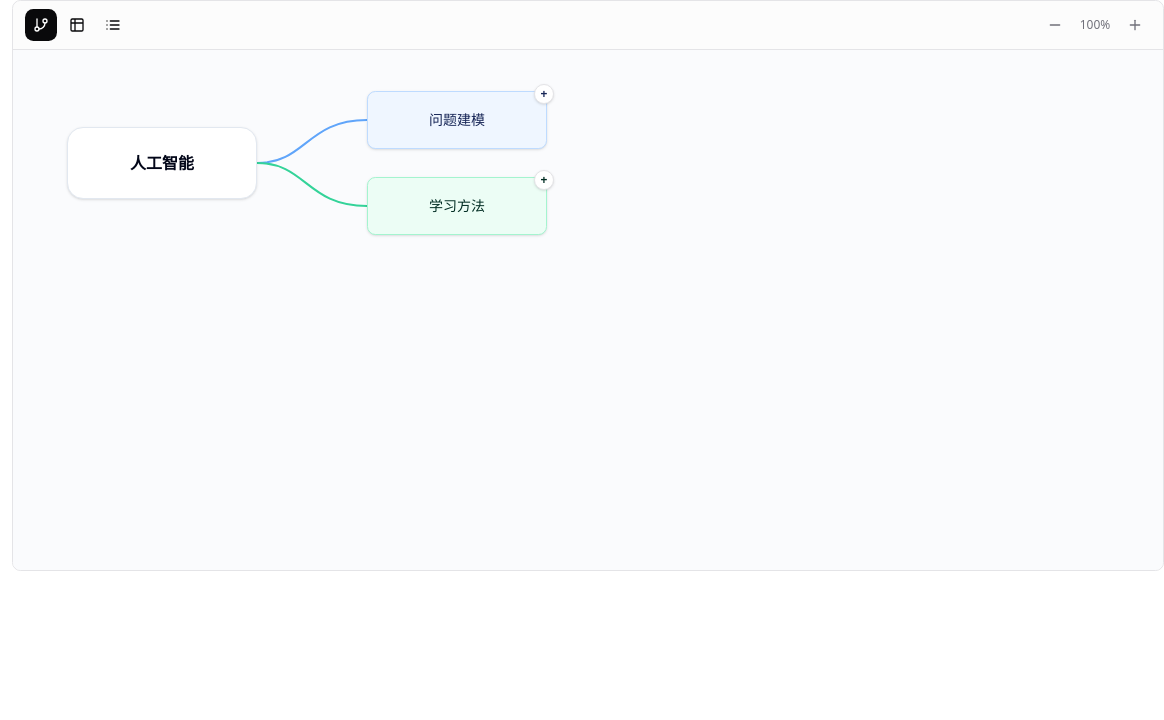
LearningAssetPreview mind maps › renders horizontal flowchart LR Mermaid content
Check: the text "人工智能" is shown, box [130,151,194,175]
Check: the text "问题建模" is shown, box [429,110,485,130]
Click the button "+ 问题建模": (457, 120) [367,91,547,149]
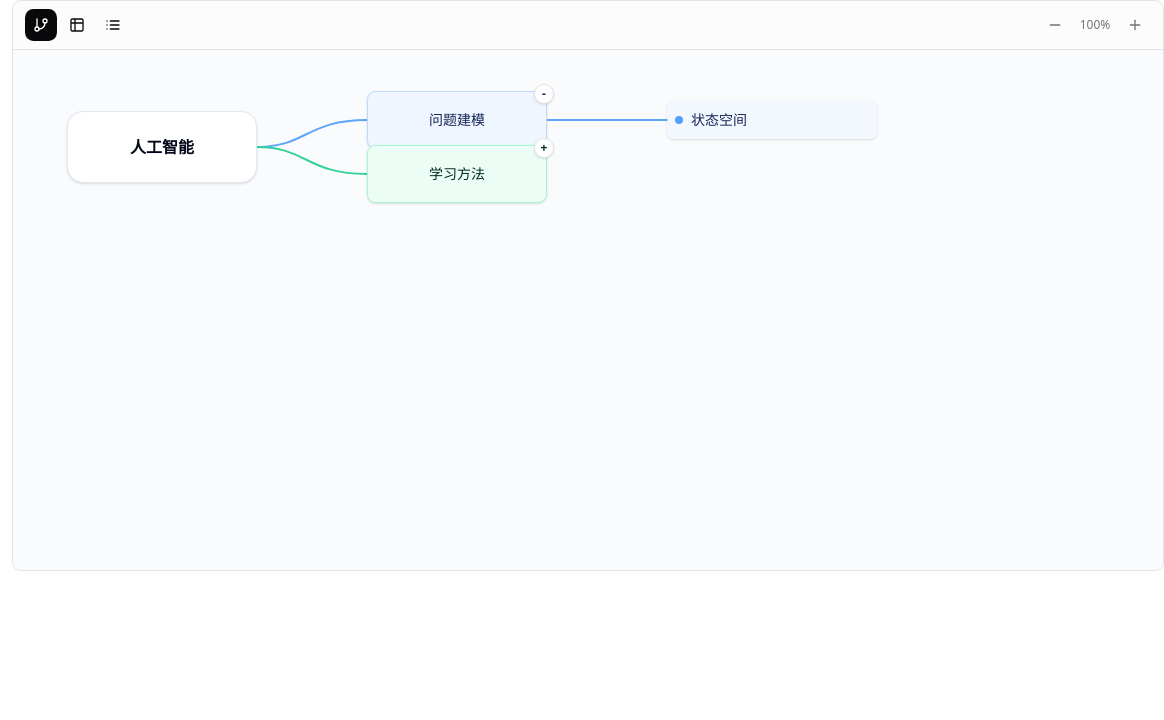
Check: the text "状态空间" is shown, box [691,110,747,130]
Click the button "+ 学习方法": (457, 174) [367,145,547,203]
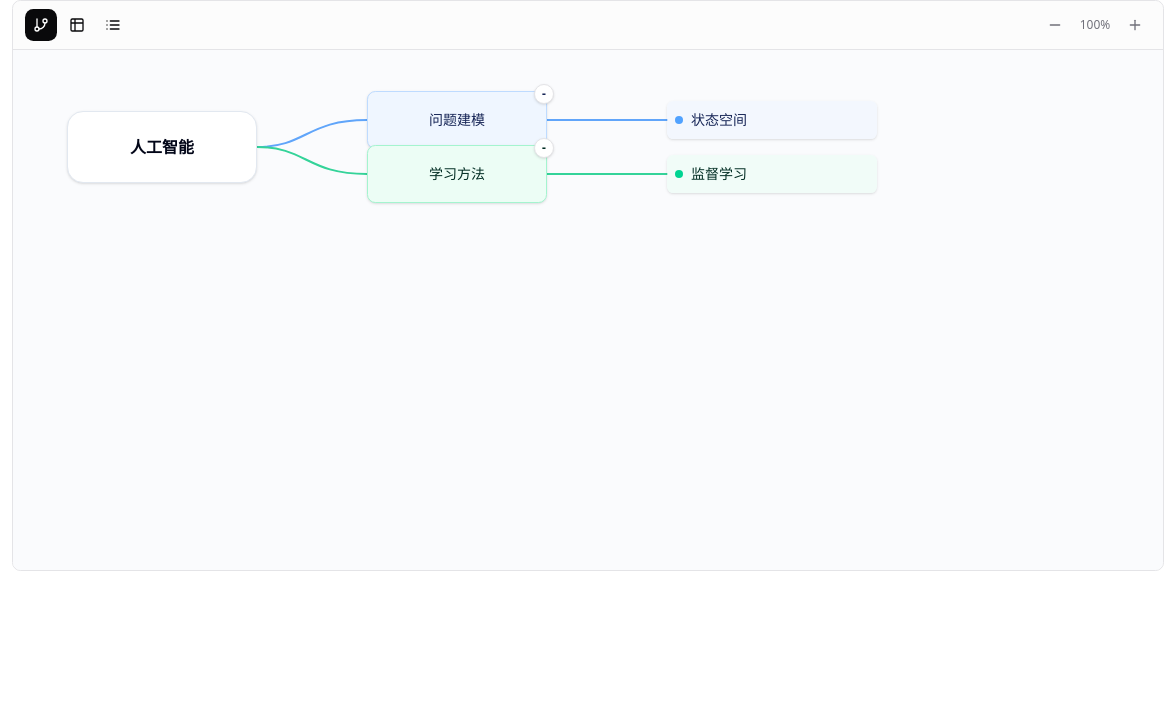
Check: the text "监督学习" is shown, box [691,164,747,184]
